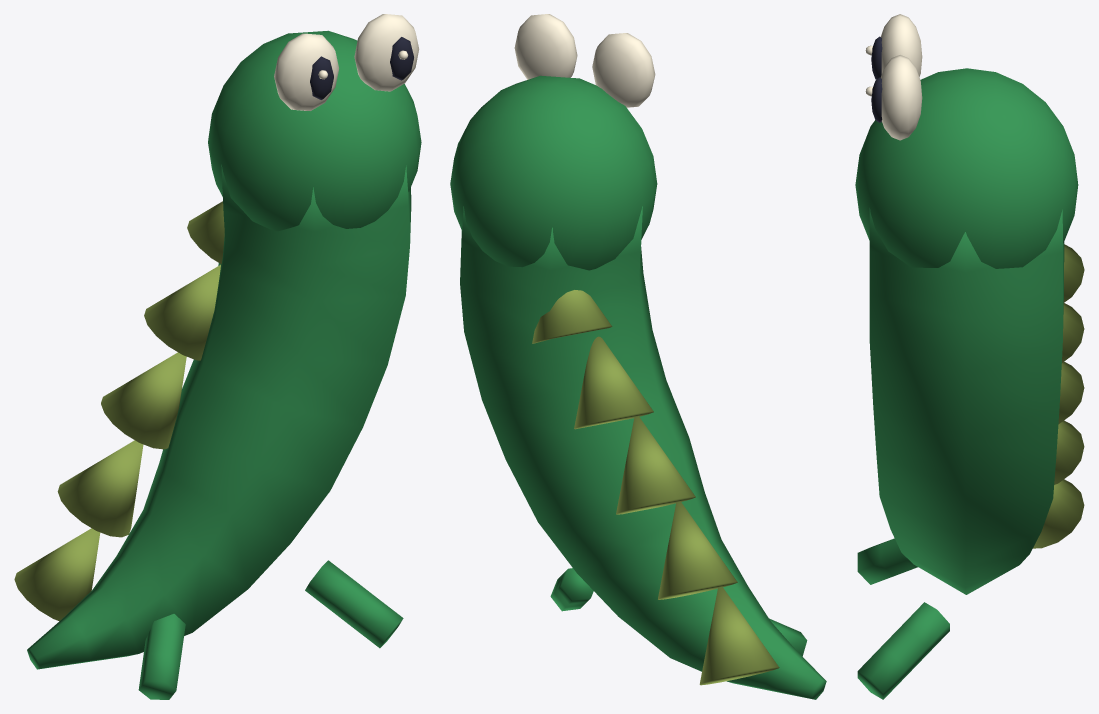
File: tail.glb
3 renders of one model, left to right at view 1: azimuth 30°, elevation 25°; view 2: azimuth 150°, elevation 25°; view 3: azimuth 270°, elevation 25°, orthographic. The views are drawn at different scales.
Parts seen in each view (by area): view 1: tail_toy-sw-green, tail_toy-sw-olive, tail_toy-sw-paper, tail_toy-sw-ink; view 2: tail_toy-sw-green, tail_toy-sw-olive, tail_toy-sw-paper; view 3: tail_toy-sw-green, tail_toy-sw-olive, tail_toy-sw-paper, tail_toy-sw-ink.
Boxes of the visible parts, x1,y1,x2,y2 form: tail_toy-sw-green: (27,30,421,699); tail_toy-sw-olive: (14,201,224,621); tail_toy-sw-paper: (274,14,419,110); tail_toy-sw-ink: (310,37,413,99); tail_toy-sw-green: (450,75,826,699); tail_toy-sw-olive: (532,290,779,685); tail_toy-sw-paper: (514,14,655,107); tail_toy-sw-green: (855,68,1078,699); tail_toy-sw-olive: (1033,244,1084,548); tail_toy-sw-paper: (865,14,922,140); tail_toy-sw-ink: (871,36,882,122).
Bounding box in the file's own units: 0.5999 × 0.9429 × 0.3027.
